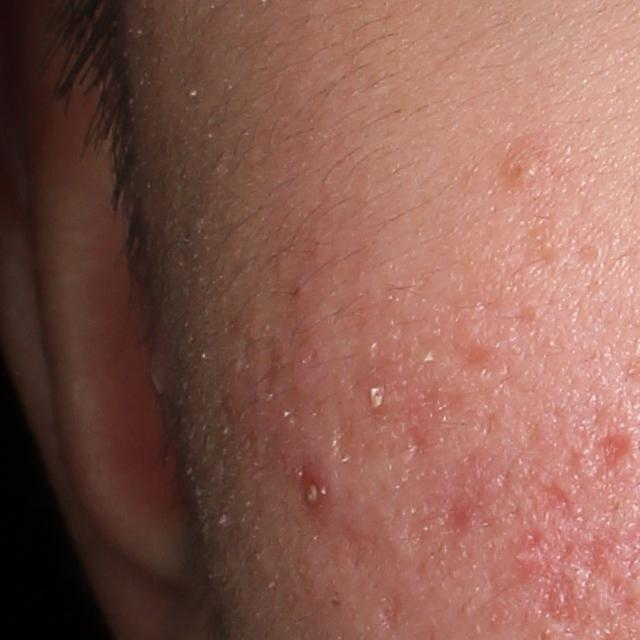atrophic_scar: (581, 432, 636, 486), (331, 401, 373, 463), (437, 488, 481, 538), (536, 572, 578, 622), (379, 590, 411, 632)
pustule: (292, 472, 326, 515)
